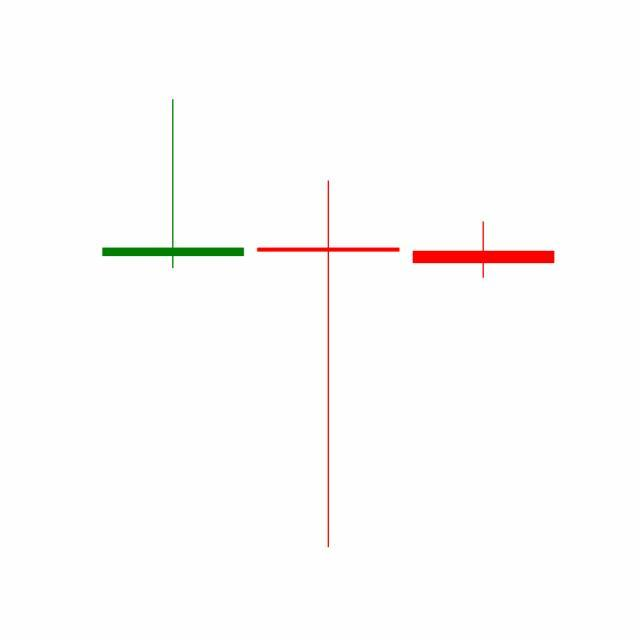Spinning Top: (250, 178, 407, 553)
